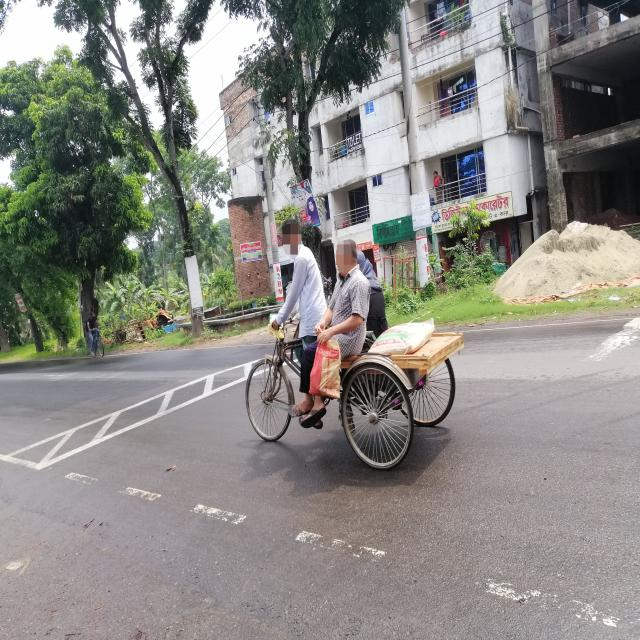Van: (222, 305, 476, 488)
